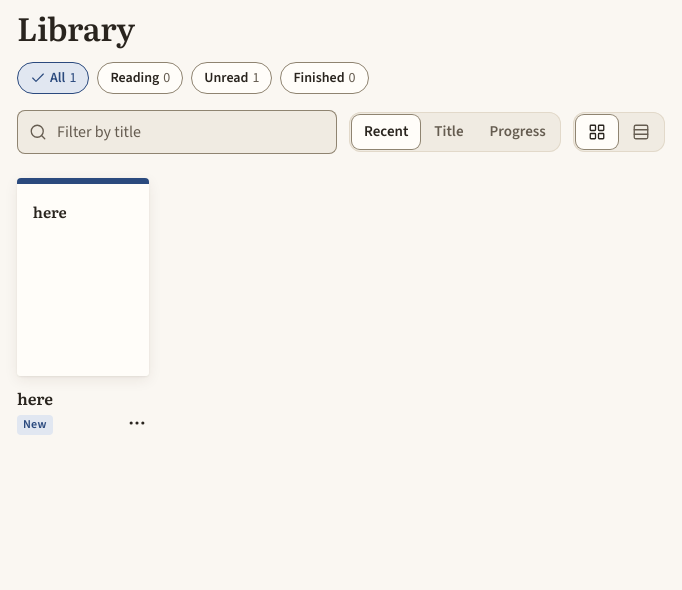
Test: Library › Cancel keeps the book
What coordinates should you click on to do the following:
click the button named "More for here"
I would click on:
 (137, 423)
Its box is [117,403,157,443].
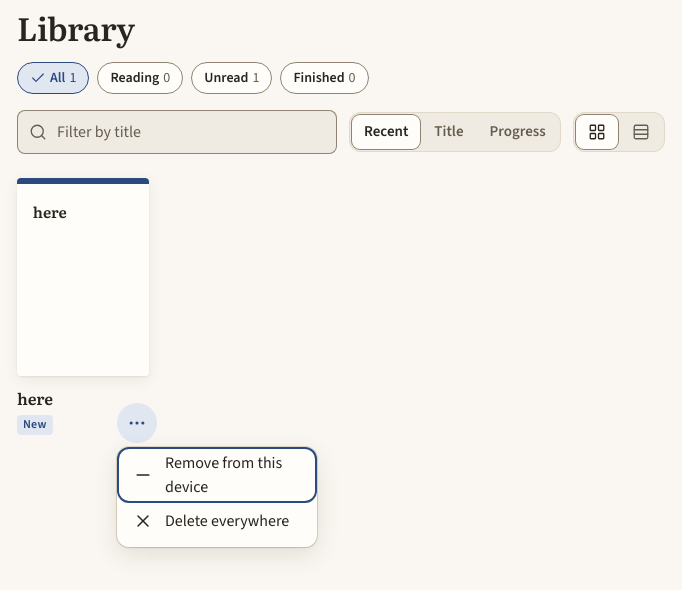
What coordinates should you click on to do the following:
click the menu item "Delete everywhere"
I would click on:
 (217, 521)
Its box is [121,499,313,543].
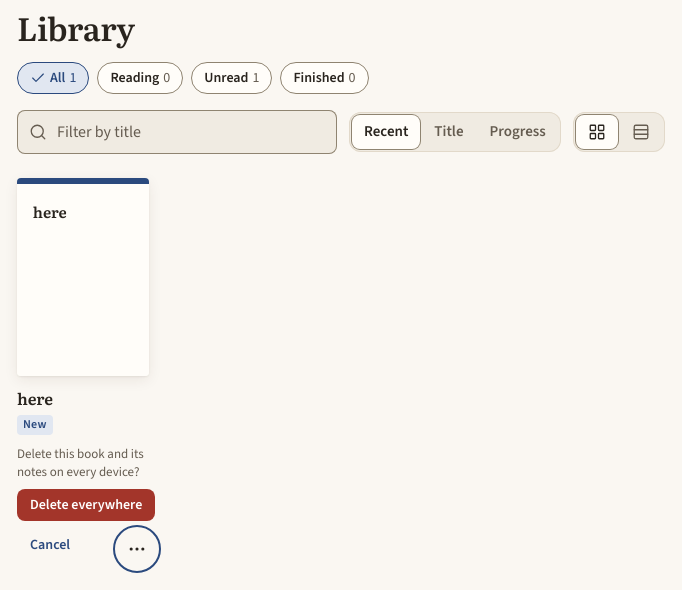
What coordinates should you click on to do the following:
click the button "Cancel"
I would click on:
 (50, 545)
Its box is [17,529,83,561].
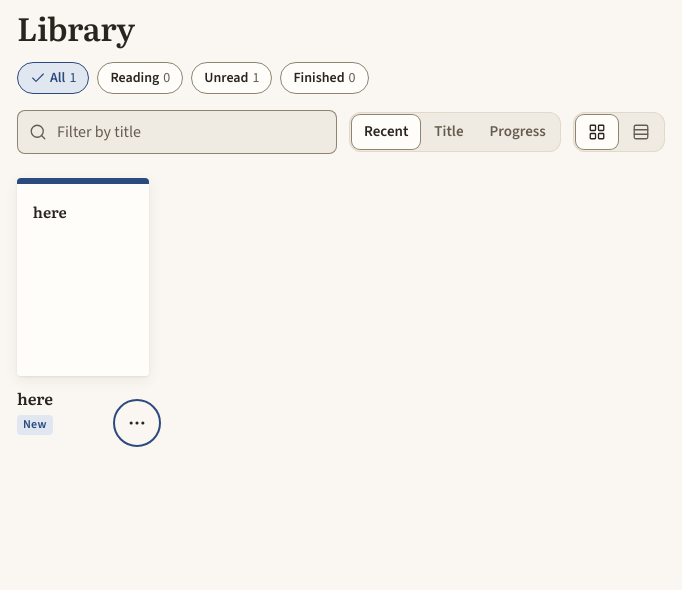
Expected: the button "Delete everywhere" is gone
